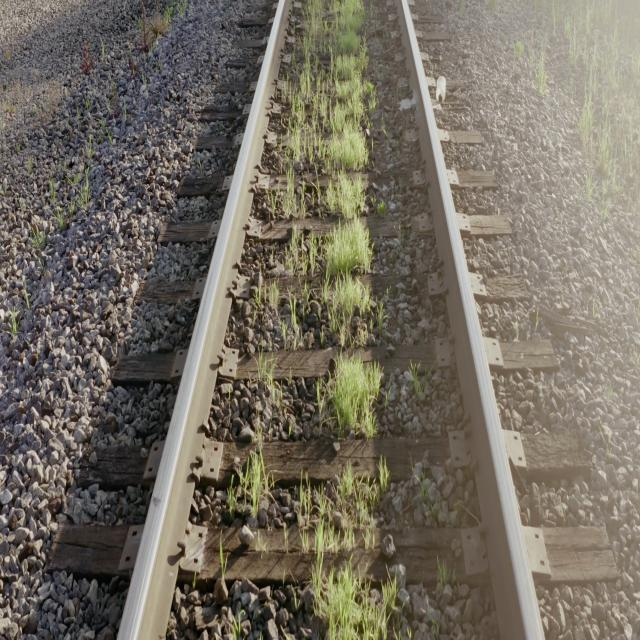Plant: (284, 0, 381, 349), (296, 462, 395, 638), (314, 356, 381, 442), (326, 564, 361, 640), (240, 453, 271, 527), (280, 182, 306, 213), (265, 280, 280, 318)
